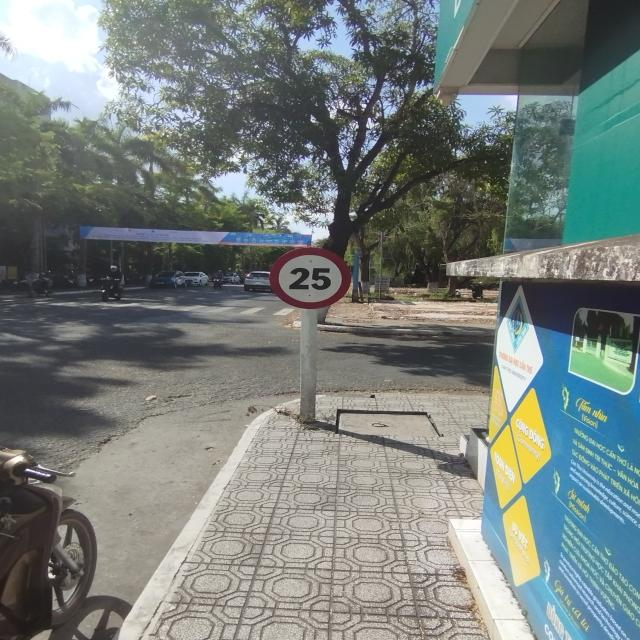Tre_Em: (268, 246, 353, 310)
